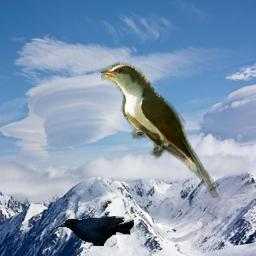Crow: (55, 216, 134, 246)
Cuckoo: (101, 61, 220, 198)
